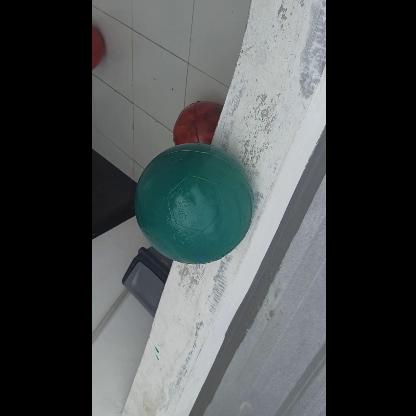green_ball: (130, 145, 252, 266)
